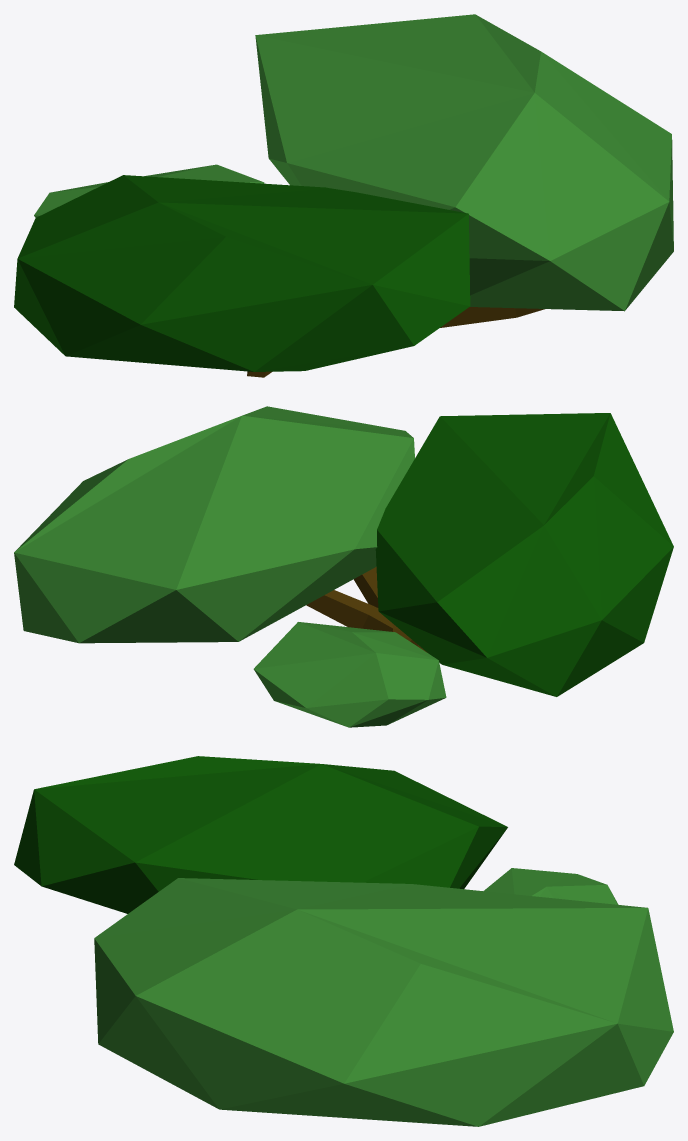
File: Bush2.fbx
3 views of the same model, one above another, from view 1: azimuth 30°, elevation 25°; view 2: azimuth 150°, elevation 25°; view 3: azimuth 270°, elevation 25° (orthographic). The views are drawn at different scales.
Visible parts, largest first — view 1: Cube.002; view 2: Cube.002; view 3: Cube.002.
Boxes of the visible parts, <box> form: Cube.002: <box>14,14,673,377</box>; Cube.002: <box>14,406,673,727</box>; Cube.002: <box>14,756,673,1126</box>.
Size of the model in its own units: 512 by 157 by 471.
